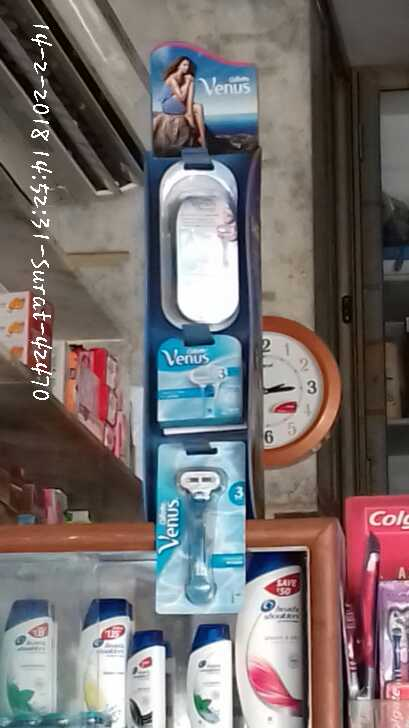beauty: (155, 444, 246, 613), (238, 552, 306, 728), (154, 337, 254, 424), (2, 589, 57, 722), (81, 600, 133, 728), (184, 615, 236, 728), (130, 632, 164, 728)
